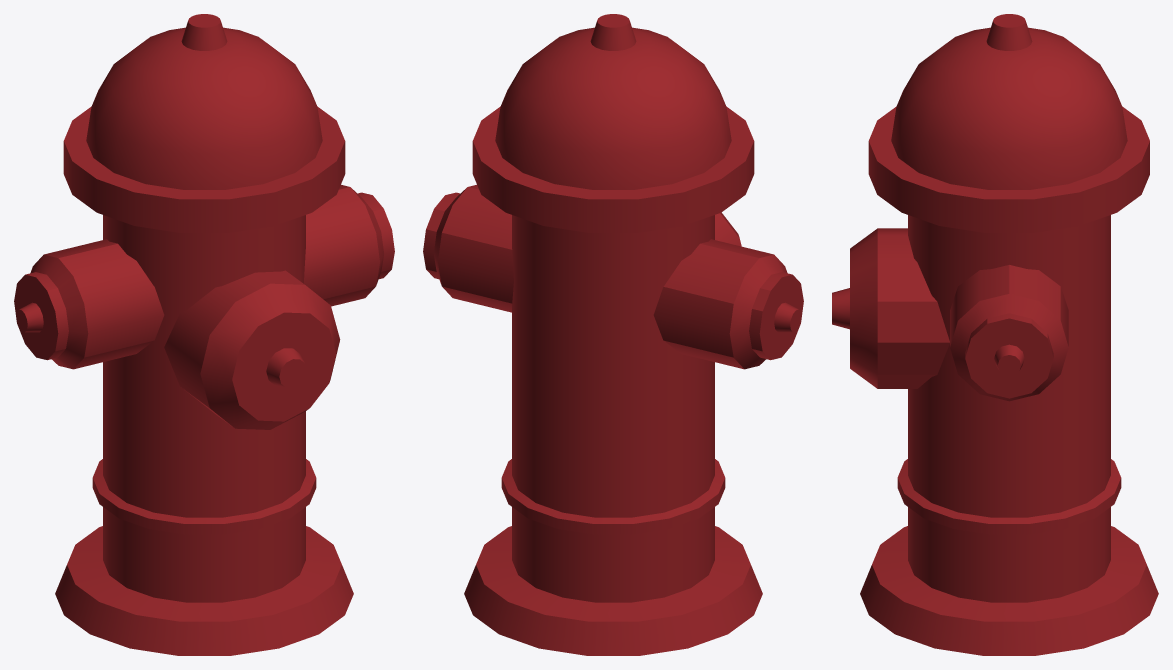
File: FireHydrant.gltf
The picture shows the model from 3 angles, left to right: view 1: azimuth 30°, elevation 25°; view 2: azimuth 150°, elevation 25°; view 3: azimuth 270°, elevation 25°; orthographic projection.
Visible parts, largest first — view 1: FireHydrant; view 2: FireHydrant; view 3: FireHydrant.
Boxes of the visible parts, bbox=[...] form: FireHydrant: bbox=[14, 14, 394, 655]; FireHydrant: bbox=[423, 14, 803, 655]; FireHydrant: bbox=[832, 14, 1158, 655].
Bounding box in the file's own units: 0.5151 × 0.7724 × 0.3992.
Materials: 1 (1 with a texture image).
